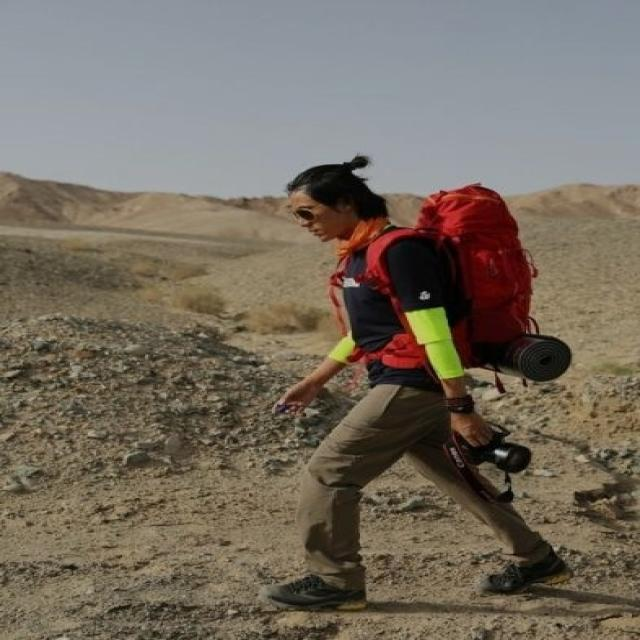non-fight: (270, 152, 571, 602)
